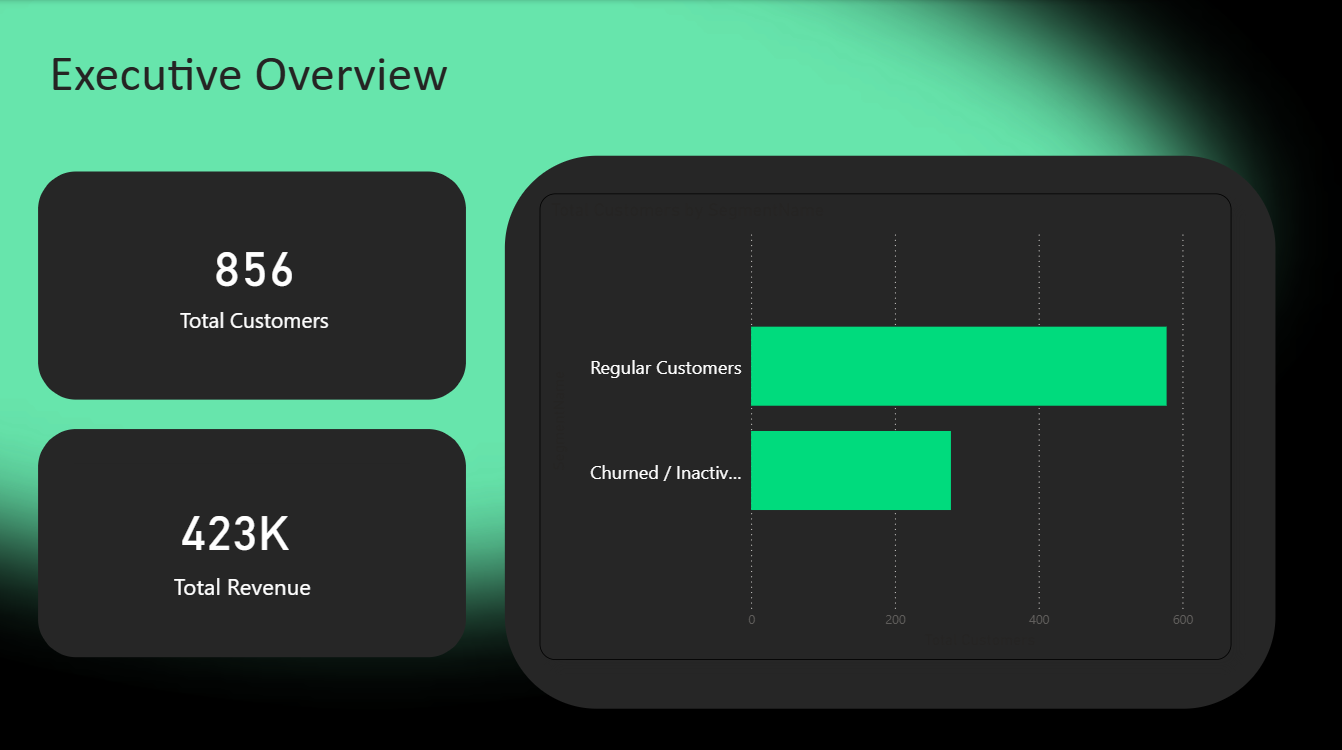

What the dashboard file says about the page in this screenshot:
{"tool":"powerbi","page":{"name":"Executive Overview","canvas":[1280,720],"ordinal":0},"visuals":[{"type":"barChart","fields":{"Y":["Clean_Transactions3.Total Customers"],"Category":["clustered_customer_data.SegmentName"]},"box":[514.2,184,657.9,443.6],"z":0},{"type":"shape","box":[51.7,184,375.6,176.5],"z":1000},{"type":"textbox","box":[42.9,34,393.2,83.2],"z":2000},{"type":"advanceCardE03760C5AB684758B56AA29F9E6C257B","fields":{"mainMeasure":["Clean_Transactions3.Total Customers"]},"box":[71.8,195.4,341.6,153.8],"z":3000},{"type":"advanceCardE03760C5AB684758B56AA29F9E6C257B","fields":{"mainMeasure":["Clean_Transactions3.Total Revenue"]},"box":[71.8,441.1,318.9,163.8],"z":4000}]}

Visuals, with their boxes in screenshot pixels (x1, y1, x2, y2), scaled from the page's 1280x720 canvas onto the 1342x750 screenshot:
barChart - Clean_Transactions3.Total Customers x clustered_customer_data.SegmentName: [539,192,1229,654]
shape: [54,192,448,376]
textbox: [45,35,457,122]
advanceCardE03760C5AB684758B56AA29F9E6C257B - Clean_Transactions3.Total Customers: [75,204,433,364]
advanceCardE03760C5AB684758B56AA29F9E6C257B - Clean_Transactions3.Total Revenue: [75,459,410,630]
